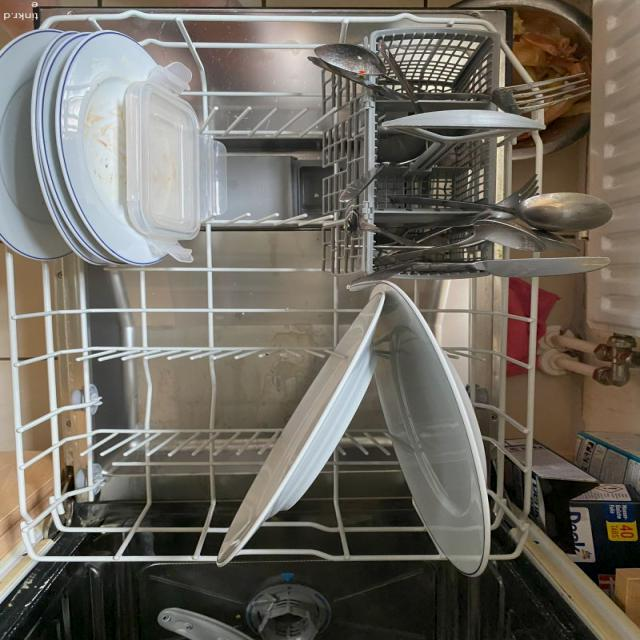clutery_bin: (364, 19, 557, 282)
empty_slot: (17, 261, 213, 546), (220, 51, 324, 253)
